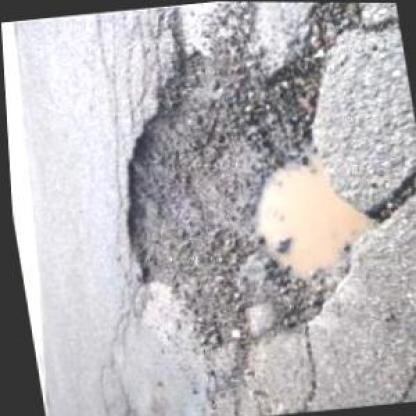pothole: (88, 24, 396, 361)
